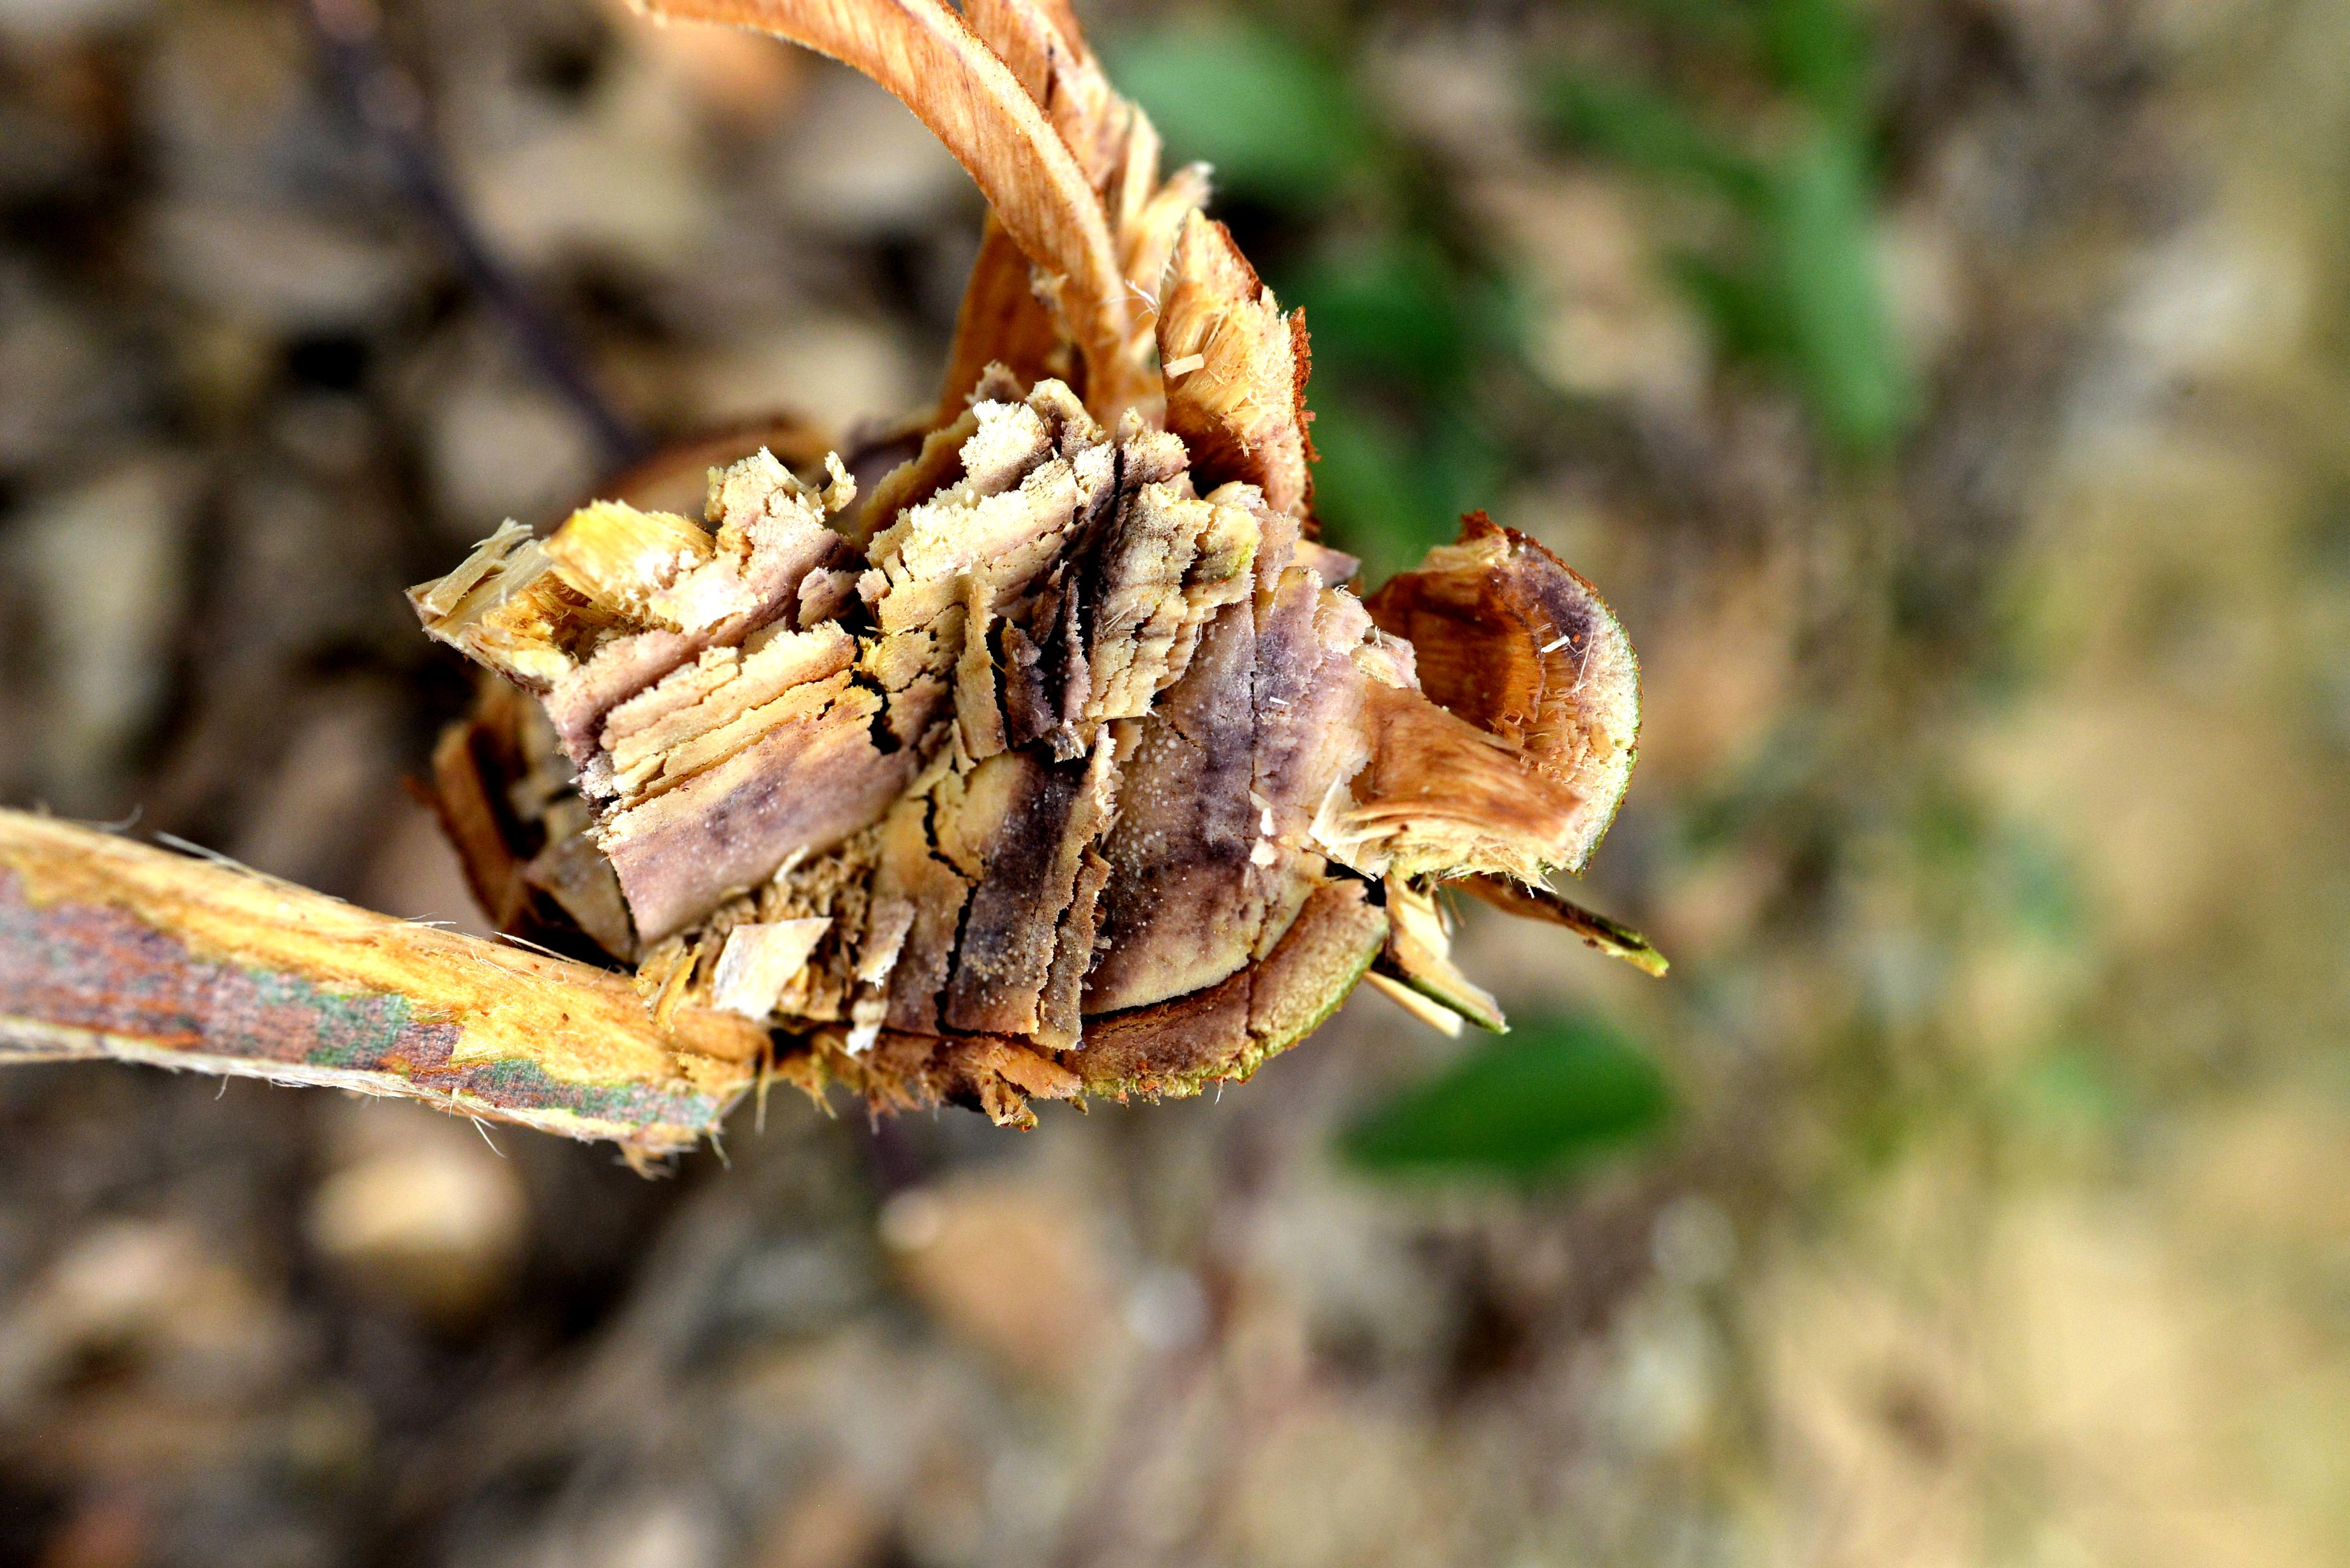Ralstonia: (945, 628, 1237, 1013), (663, 730, 796, 884)
